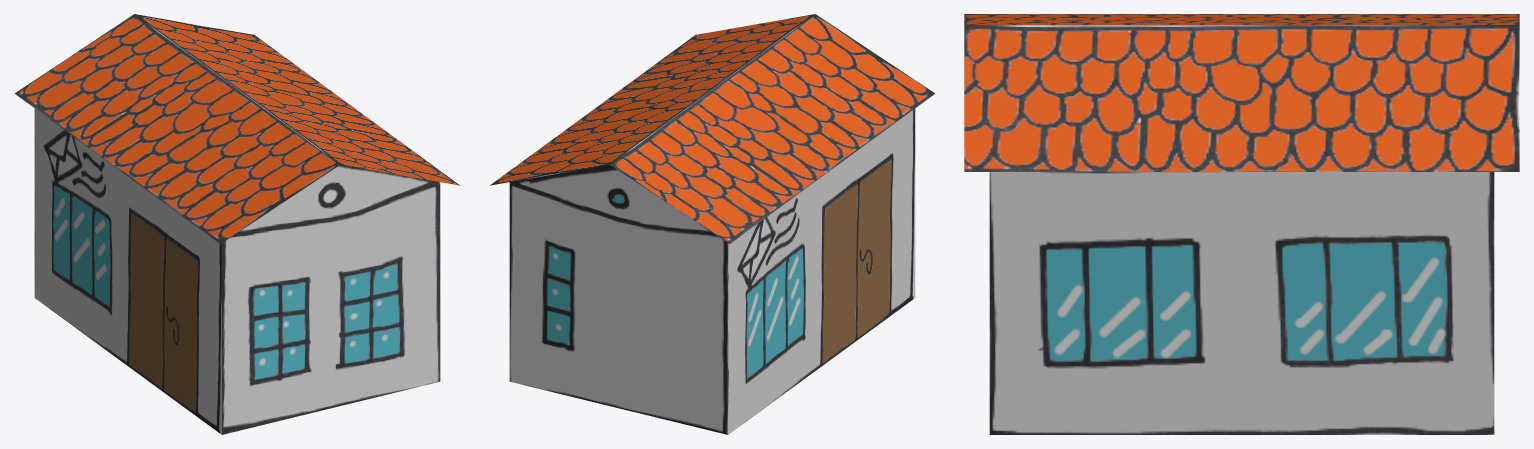
Rendered from Office.fbx.
3 renders of one model, left to right at view 1: azimuth 30°, elevation 25°; view 2: azimuth 150°, elevation 25°; view 3: azimuth 270°, elevation 25°, orthographic. The views are drawn at different scales.
Visible parts, largest first — view 1: Office; view 2: Office; view 3: Office.
Boxes of the visible parts, <box> form: Office: <box>14,14,459,434</box>; Office: <box>490,14,935,434</box>; Office: <box>964,14,1519,434</box>.
Bounding box in the file's own units: 220 × 219 × 327.
